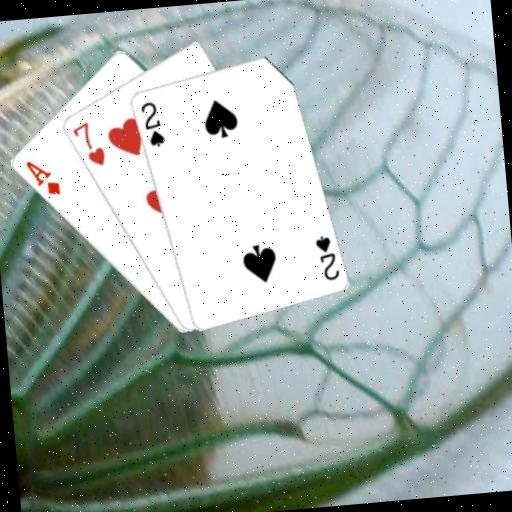2S: (137, 97, 167, 150), (311, 231, 341, 283)
7H: (68, 117, 108, 170)
AD: (22, 155, 63, 200)
